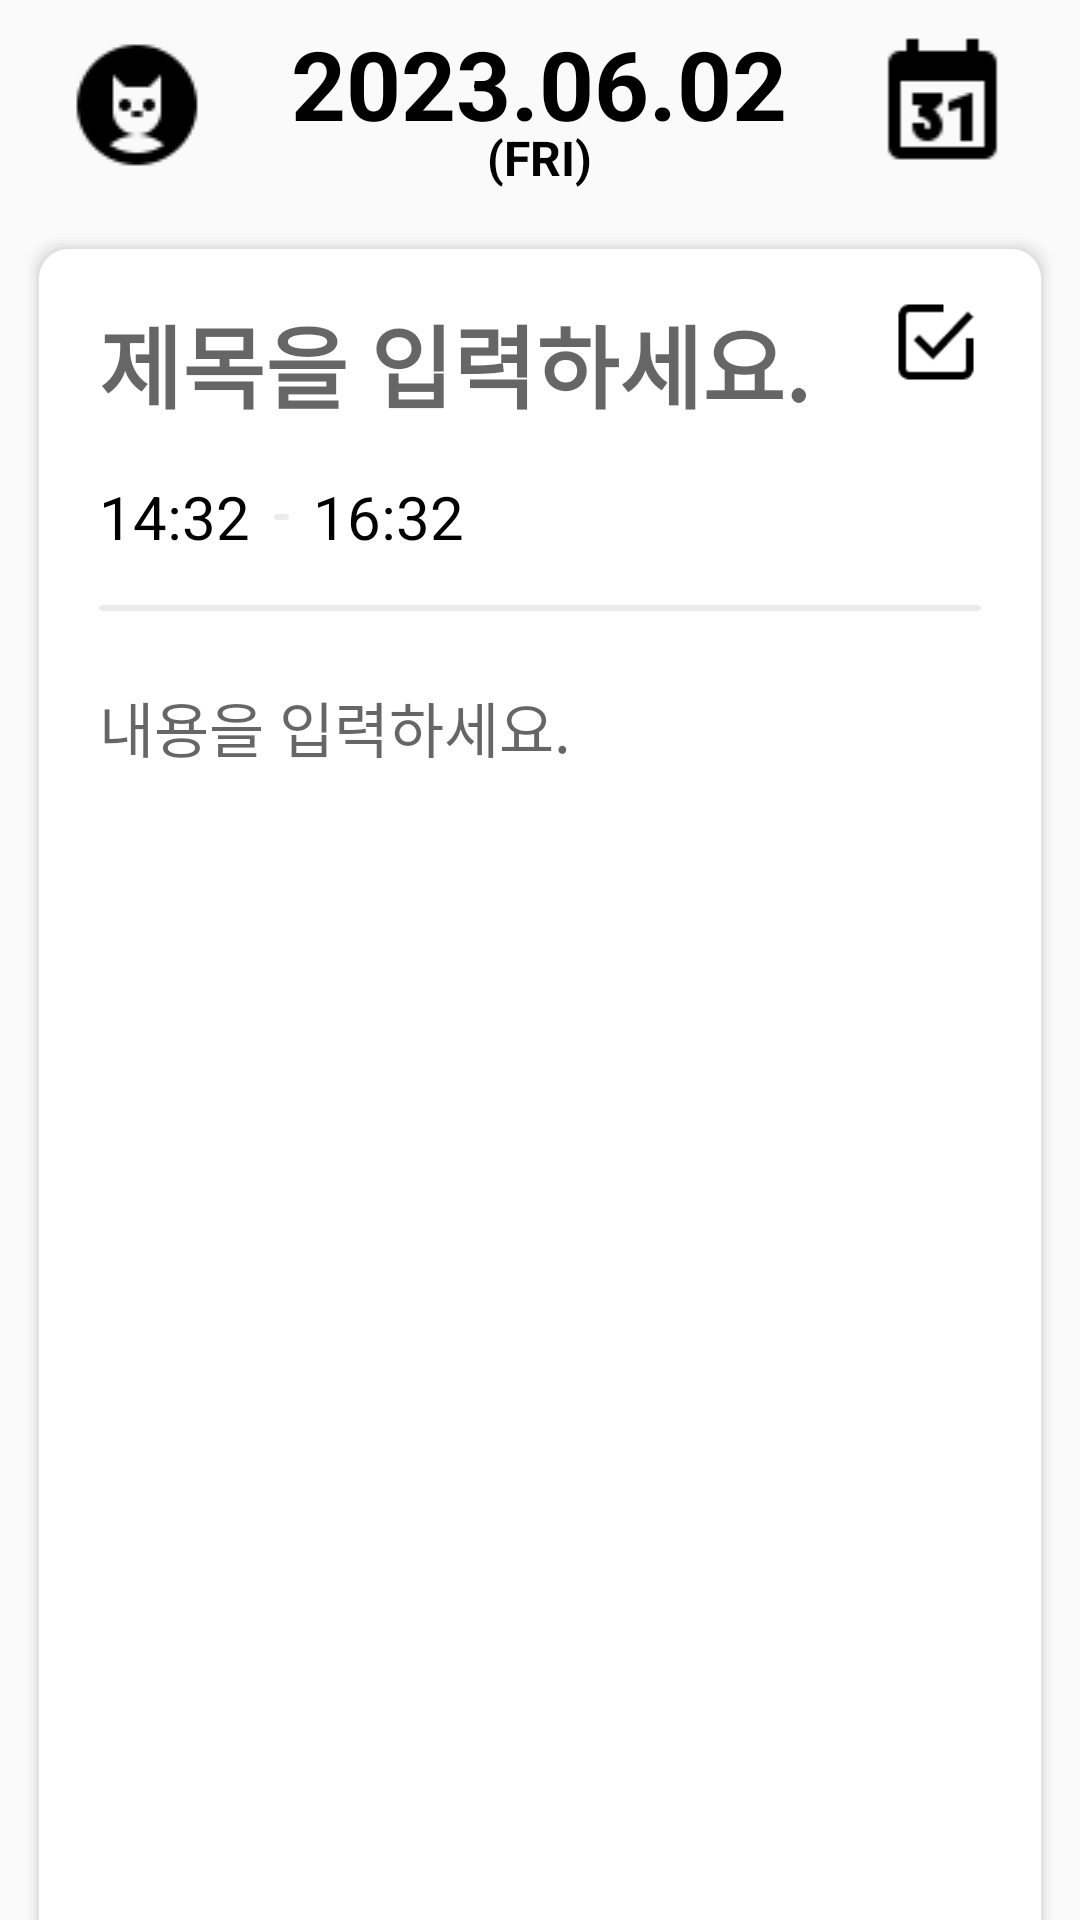

Screen size 1080 × 1920. Icon name, then its center in pixels as (x,y):
calendar: (942,99)
cat: (137,105)
check: (936,342)
